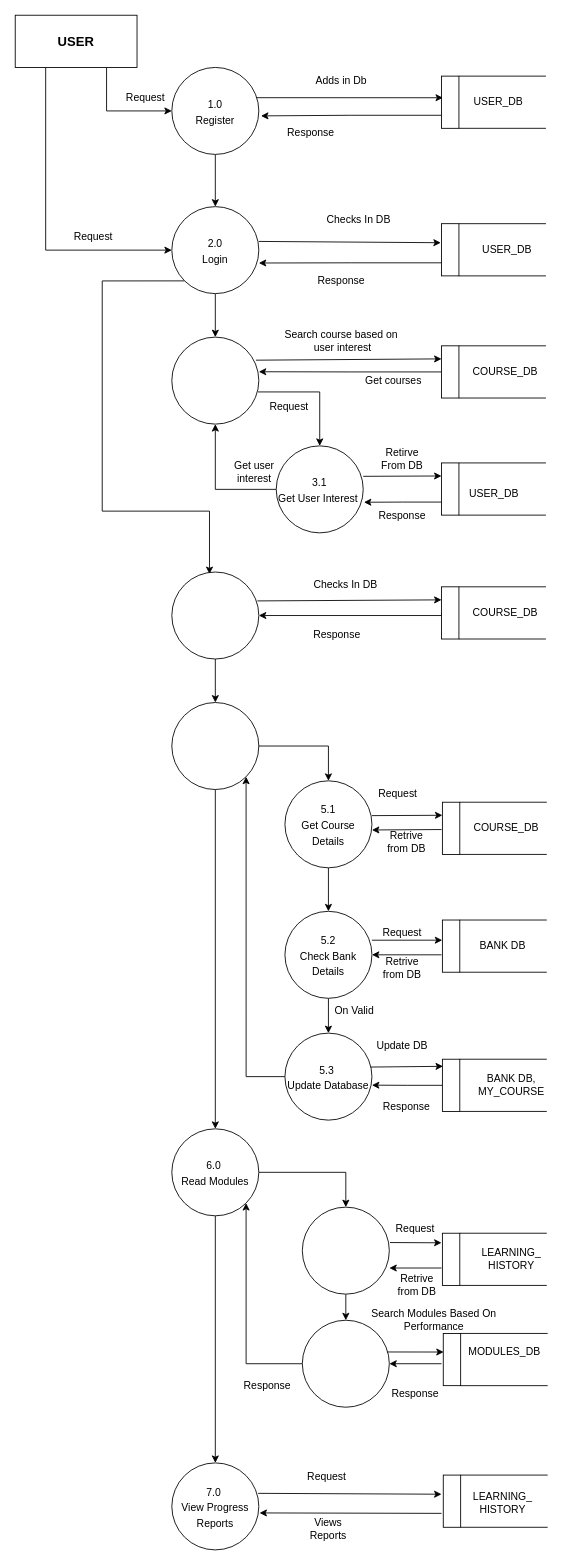
The diagram is 566 pixels wide and 1565 high, and some of its shapes have lost their labels. Here are the shapes that lost their labels. From the top down, the box of each, then its label:
(171, 336, 259, 424): 3.0 Recommed Course
(171, 571, 259, 659): 4.0 Search Course
(171, 702, 259, 790): 5.0 Buy Course
(301, 1206, 389, 1294): 6.1 Performance Details
(301, 1319, 389, 1407): 6.2 Recommend Modules
